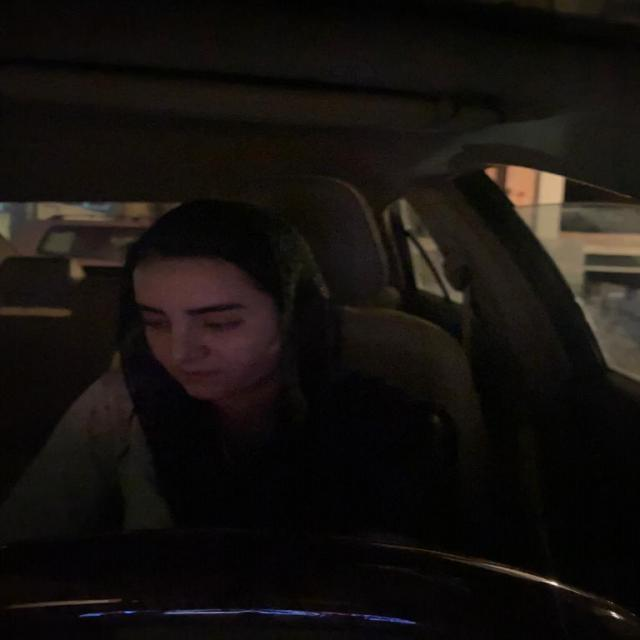person: (112, 192, 332, 405)
